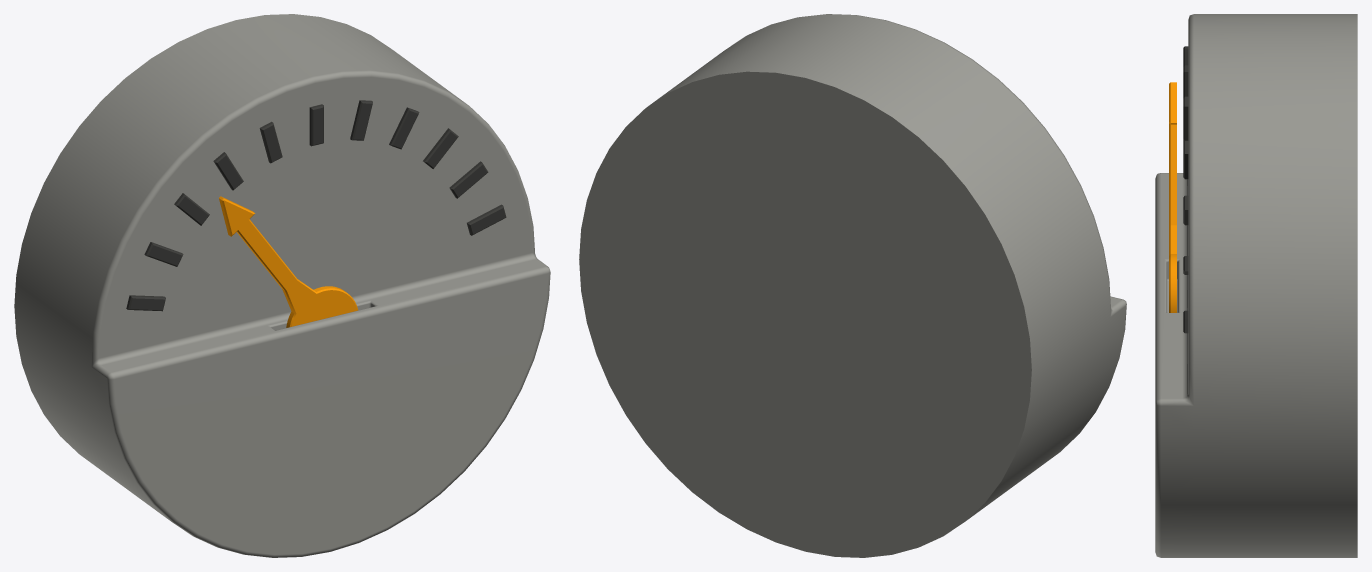
Rendered from Speedometer #1.fbx.
The picture shows the model from 3 angles, left to right: view 1: azimuth 30°, elevation 25°; view 2: azimuth 150°, elevation 25°; view 3: azimuth 270°, elevation 25°; orthographic projection. The views are drawn at different scales.
Visible parts, largest first — view 1: kitbash_03; view 2: kitbash_03; view 3: kitbash_03.
Boxes of the visible parts, box(x1,y1,x2,y2) form: kitbash_03: box(14, 14, 550, 557); kitbash_03: box(579, 14, 1126, 557); kitbash_03: box(1155, 14, 1357, 557).
Size of the model in its own units: 15.42 by 15.42 by 5.73.
